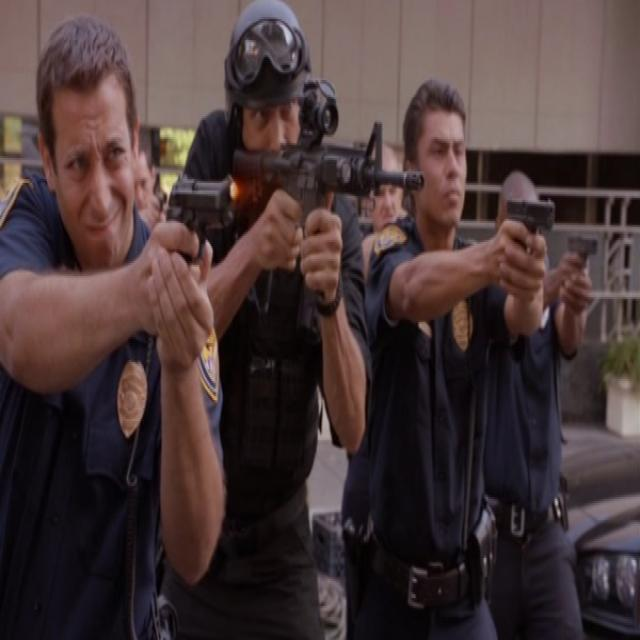rifle: (230, 84, 430, 227)
